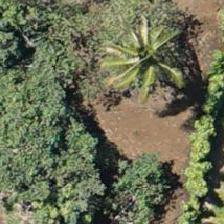coconut_tree: (99, 8, 189, 98)
